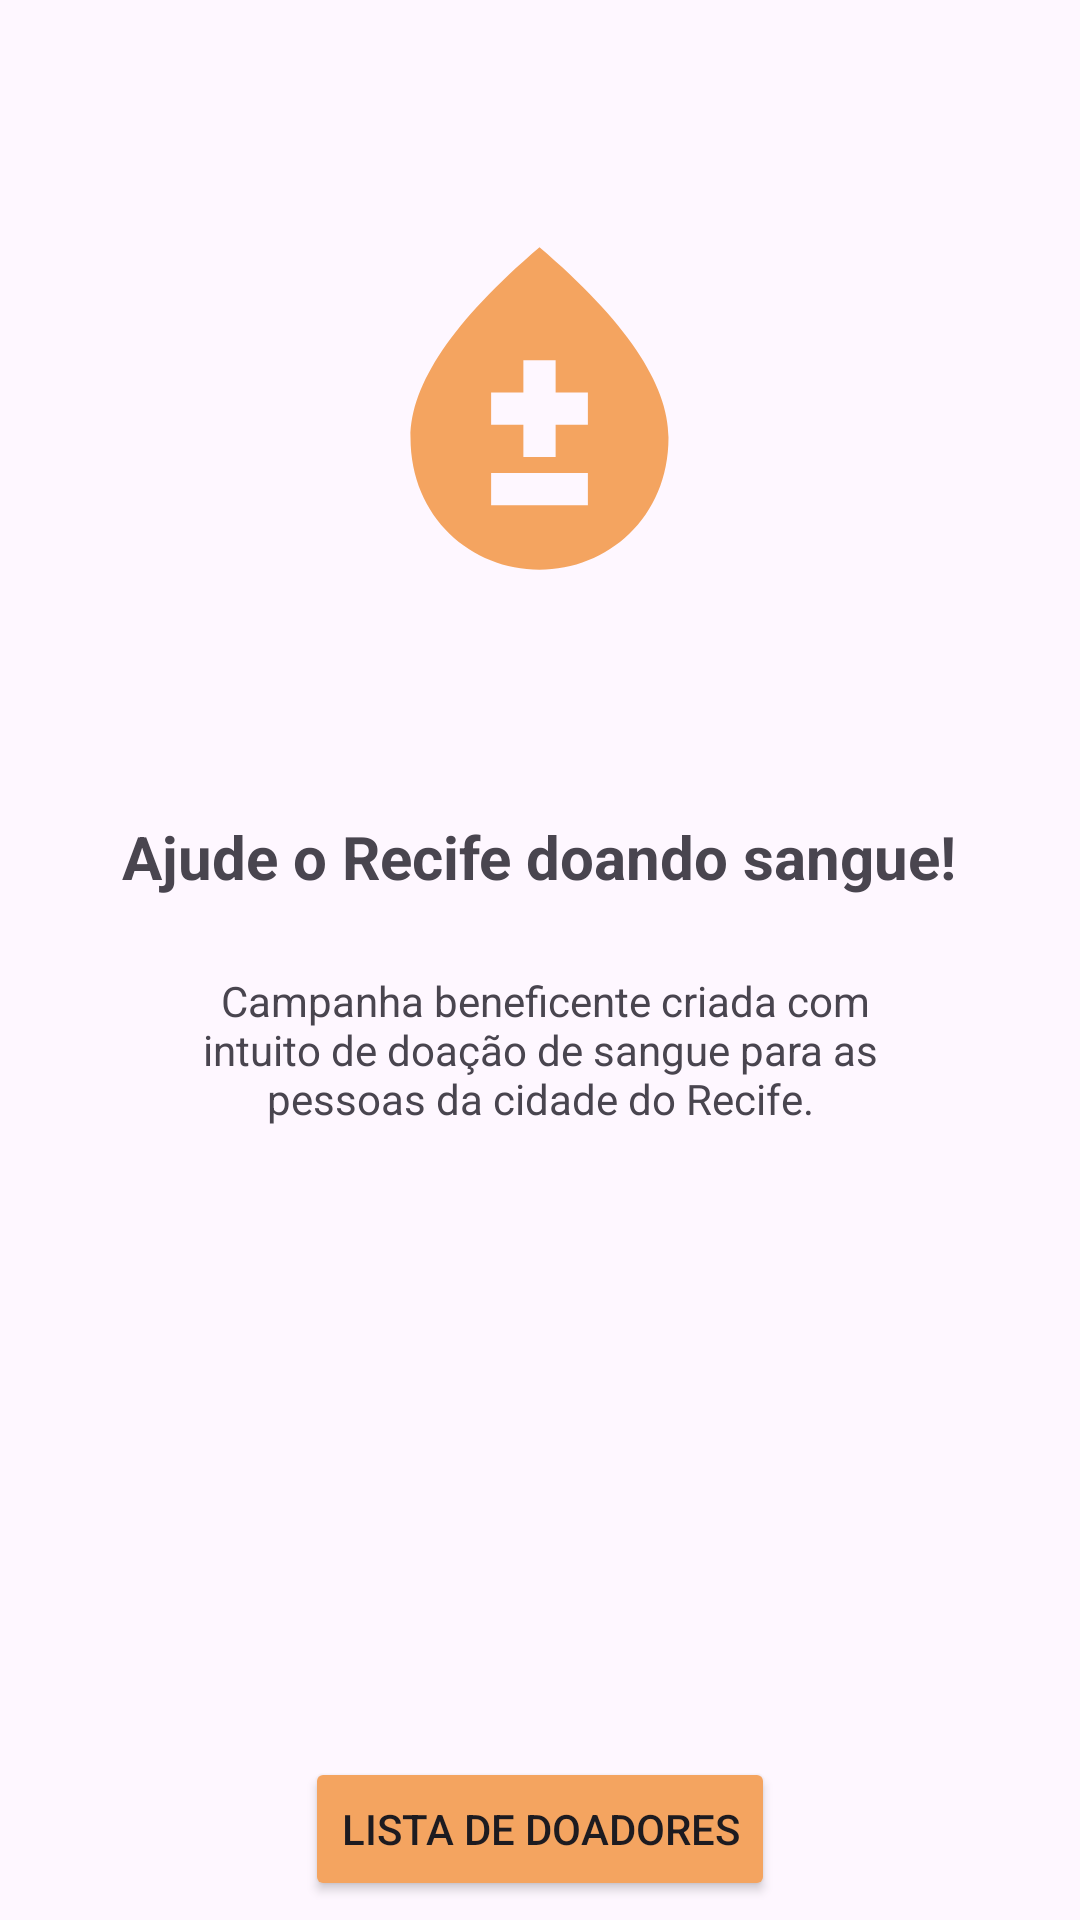

Where to tap for icons on this 1080*1920 app screen, as (x,y):
sangueicone: (539,408)
